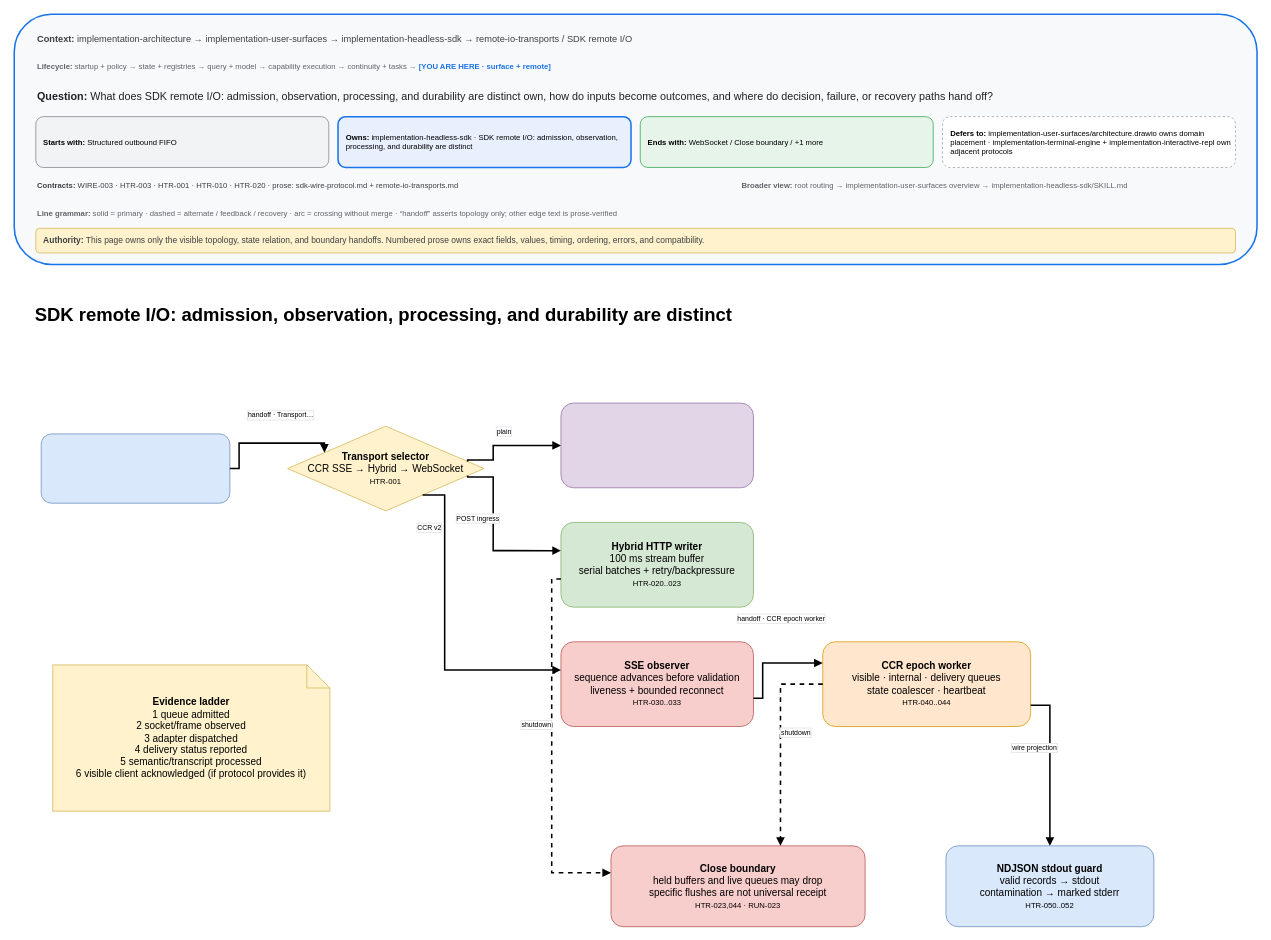
Some shapes in this 1271 by 940 pixel diagram are drawn without their labels. The box of each missing label's shape, as (x1, y1, x2, y2) in pixels:
CUSTOM DIAGRAM CONTEXT · v2.1: (13, 13, 1257, 265)
Structured outbound FIFO session + control records WIRE-003 · HTR-003: (40, 433, 230, 503)
WebSocket UUID replay ring ping · sleep · reconnect budget HTR-010..014: (560, 402, 753, 488)
